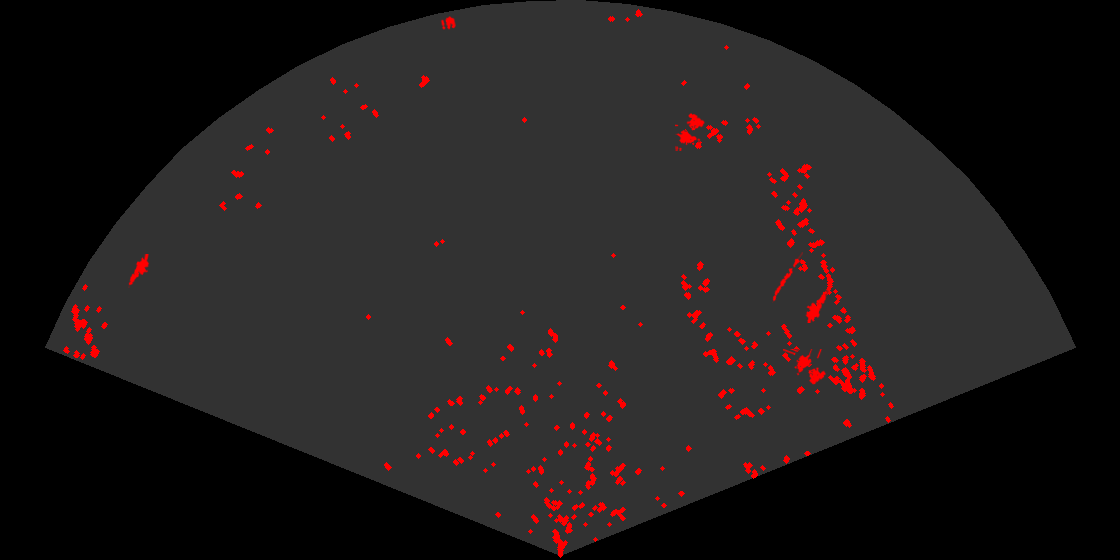ball: (439, 15, 457, 31)
cage: (783, 349, 828, 386), (675, 111, 706, 151)
chain: (771, 252, 803, 303)
frogman: (804, 288, 829, 323), (127, 254, 151, 288)
